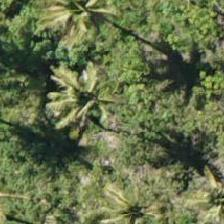coconut_tree: (28, 52, 118, 142), (23, 0, 113, 59), (80, 165, 170, 223), (176, 147, 223, 223)
